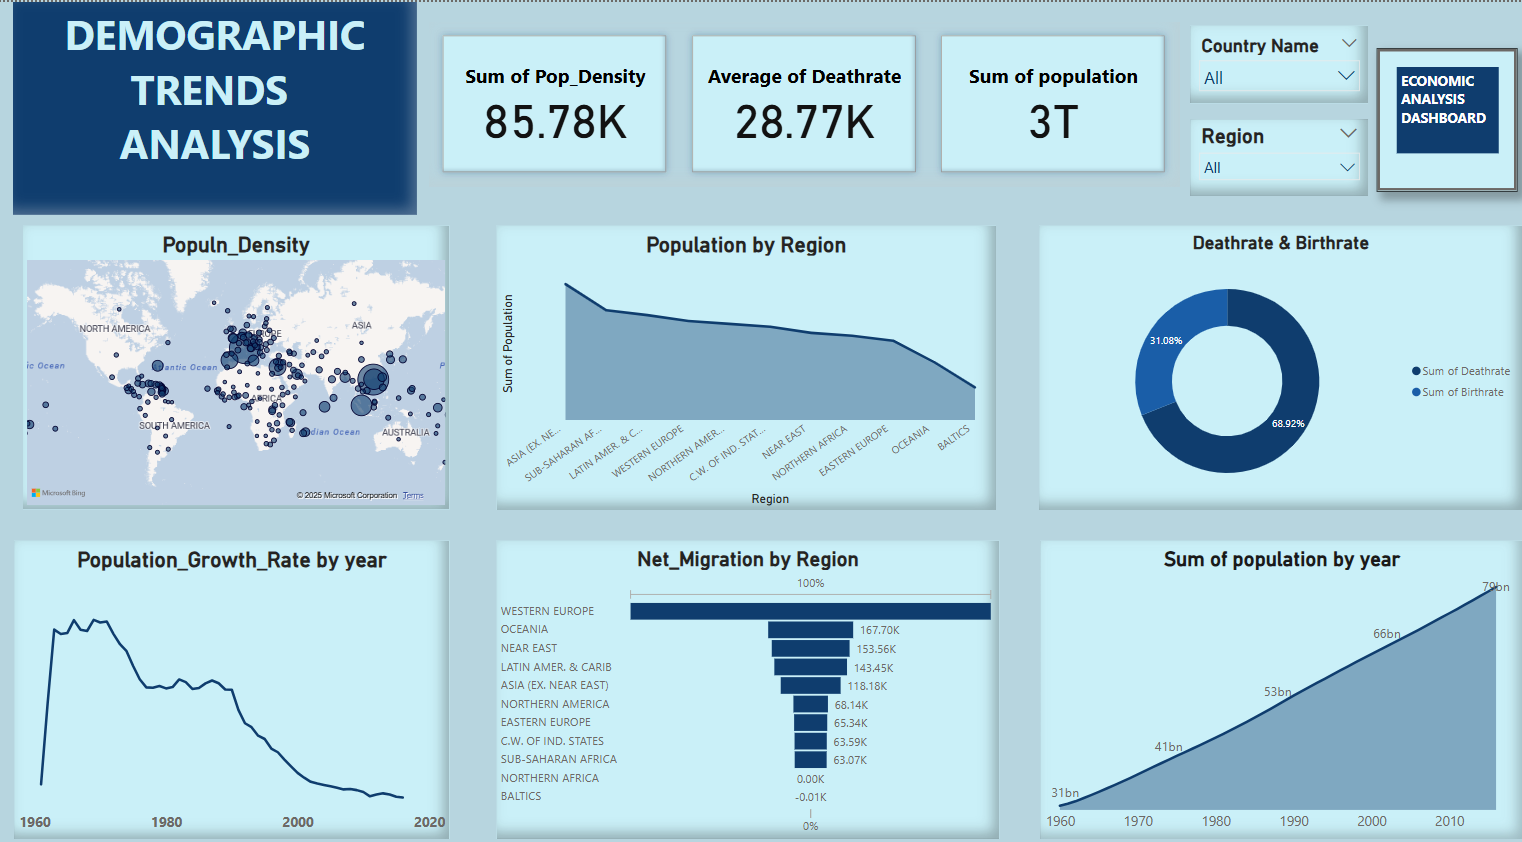

What the dashboard file says about the page in this screenshot:
{"tool":"powerbi","page":{"name":"DEMOGRAPHIC TREND ANALYSIS","canvas":[1800,1000],"ordinal":7},"visuals":[{"type":"textbox","box":[23.5,0,513.2,250],"z":0},{"type":"areaChart","fields":{"Category":["PopulationPerCountry.year"],"Y":["Sum(PopulationPerCountry.population)"]},"box":[1231.7,633.3,568.3,351.7],"z":1000},{"type":"lineChart","fields":{"Category":["PopulationPerCountry.year"],"Y":["PopulationPerCountry.Population_Growth_Rate"]},"box":[23.5,633.8,513.2,352.9],"z":2000},{"type":"slicer","fields":{"Values":["PopulationPerCountry.Country Name"]},"box":[1409,28.4,209,91],"z":3000},{"type":"areaChart","title":"Population by Region","fields":{"Category":["countries countries_world.Region"],"Y":["Sum(countries countries_world.Population)"]},"box":[592.9,262.9,587,334.4],"z":4000},{"type":"map","title":"Populn_Density ","fields":{"Category":["countries countries_world.Country Name"],"Size":["Sum(countries countries_world.Pop_Density)"]},"box":[23.5,263.2,513.2,333.8],"z":5000},{"type":"donutChart","title":"Deathrate & Birthrate","fields":{"Y":["Sum(countries countries_world.Deathrate)","Sum(countries countries_world.Birthrate)"]},"box":[1231.3,262.7,568.7,334.3],"z":6000},{"type":"cardVisual","fields":{"Data":["Sum(countries countries_world.Pop_Density)","Avg(countries countries_world.Deathrate)","Sum(PopulationPerCountry.population)"]},"box":[557.4,23.5,839.7,192.6],"z":7000},{"type":"slicer","fields":{"Values":["countries countries_world.Region"]},"box":[1409,138.8,209,89.6],"z":8000},{"type":"actionButton","box":[1628.4,53.7,165.7,168.7],"z":9000},{"type":"textbox","box":[1650.8,76.9,120,101.5],"z":11000},{"type":"funnel","title":" Net_Migration  by Region","fields":{"Category":["countries countries_world.Region"],"Y":["Sum(countries countries_world.Net_Migration)"]},"box":[592.9,634.3,591.4,350],"z":12000}]}

Visuals, with their boxes in screenshot pixels (x1, y1, x2, y2), scaled from the page's 1800x1000 canvas onto the 1522x842 screenshot:
textbox: (20, 0, 454, 210)
areaChart - PopulationPerCountry.year x Sum(PopulationPerCountry.population): (1041, 533, 1521, 829)
lineChart - PopulationPerCountry.year x PopulationPerCountry.Population_Growth_Rate: (20, 534, 454, 831)
slicer - PopulationPerCountry.Country Name: (1191, 24, 1368, 101)
"Population by Region" areaChart: (501, 221, 998, 503)
"Populn_Density " map: (20, 222, 454, 503)
"Deathrate & Birthrate" donutChart: (1041, 221, 1521, 503)
cardVisual - Sum(countries countries_world.Pop_Density) x Avg(countries countries_world.Deathrate): (471, 20, 1181, 182)
slicer - countries countries_world.Region: (1191, 117, 1368, 192)
actionButton: (1377, 45, 1517, 187)
textbox: (1396, 65, 1497, 150)
" Net_Migration  by Region" funnel: (501, 534, 1001, 829)
